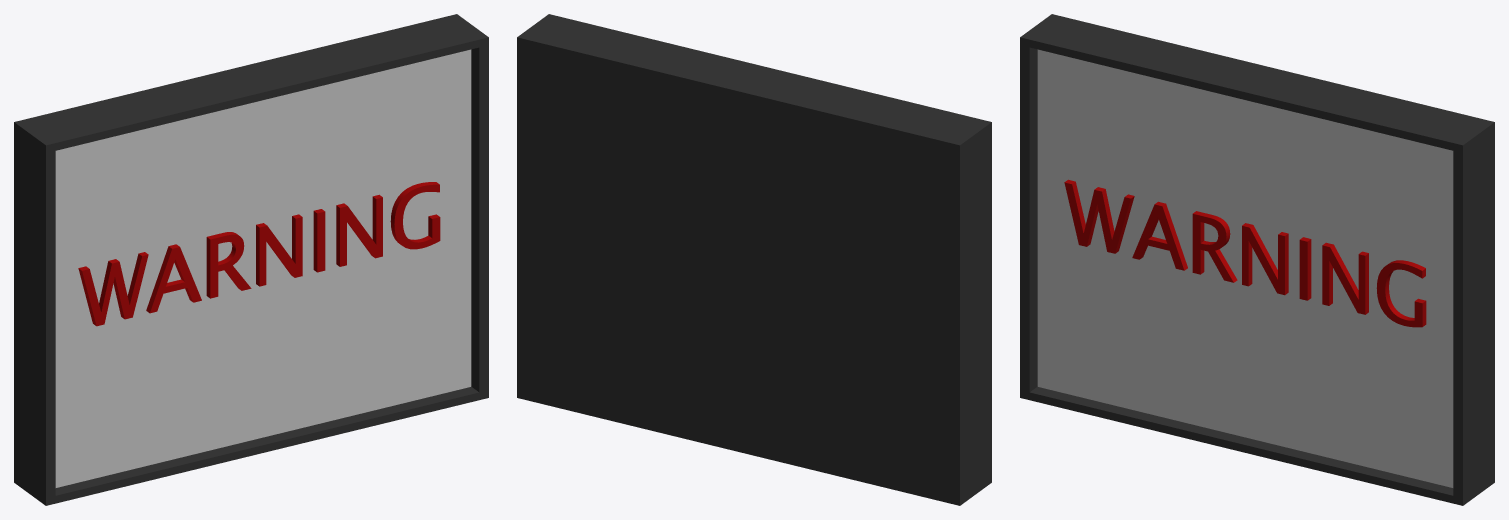
Rendered from Computer.fbx.
3 views of the same model, side by side, from view 1: azimuth 30°, elevation 25°; view 2: azimuth 150°, elevation 25°; view 3: azimuth 330°, elevation 25° (orthographic).
Parts seen in each view (by area): view 1: Computer, Words; view 2: Computer; view 3: Computer, Words.
Part boxes in pixels (x1=…): Computer: x1=14, y1=14, x2=488, y2=505; Words: x1=78, y1=182, x2=440, y2=326; Computer: x1=517, y1=14, x2=991, y2=505; Computer: x1=1020, y1=14, x2=1494, y2=505; Words: x1=1064, y1=179, x2=1426, y2=327.
Bounding box in the file's own units: 25.12 × 19.55 × 3.13.
